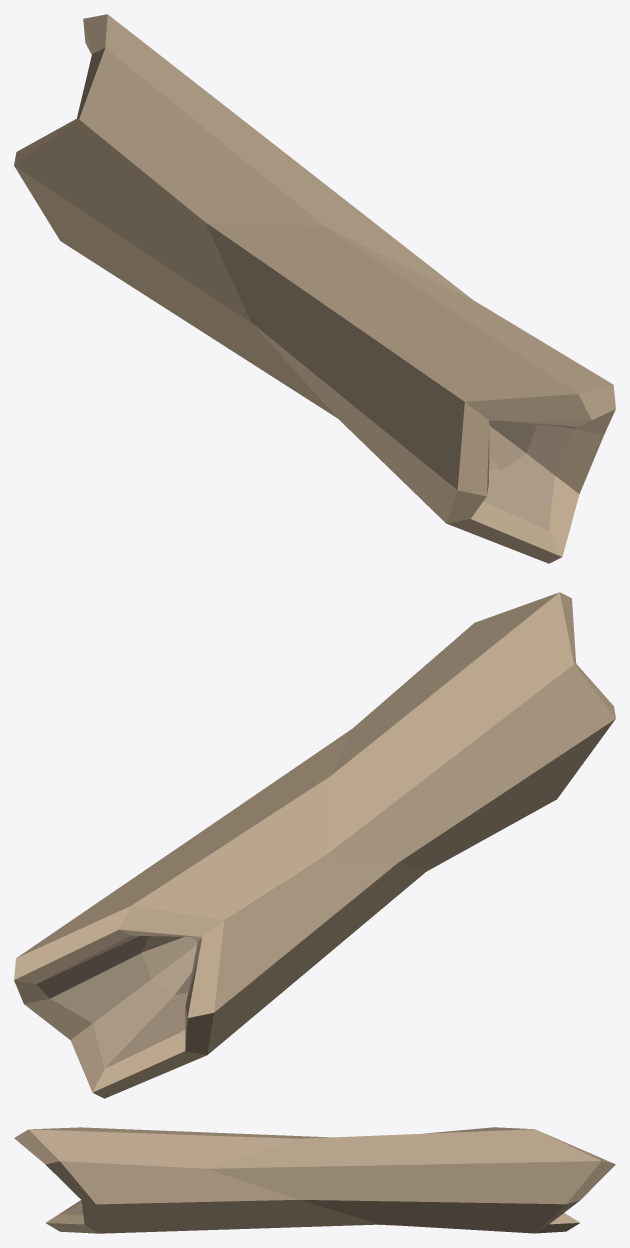
The model's file is SM_Prop_Bone_Cracked_01.fbx.
3 renders of one model, top to bottom at view 1: azimuth 30°, elevation 25°; view 2: azimuth 150°, elevation 25°; view 3: azimuth 270°, elevation 25°, orthographic. The views are drawn at different scales.
Visible parts, largest first — view 1: SM_Prop_Bone_Cracked_01; view 2: SM_Prop_Bone_Cracked_01; view 3: SM_Prop_Bone_Cracked_01.
Boxes of the visible parts, x1=… form: SM_Prop_Bone_Cracked_01: x1=14, y1=14, x2=615, y2=563; SM_Prop_Bone_Cracked_01: x1=14, y1=592, x2=615, y2=1098; SM_Prop_Bone_Cracked_01: x1=14, y1=1127, x2=615, y2=1233.
Bounding box in the file's own units: 0.0871 × 0.0872 × 0.4637.
1 material, 1 textured.
